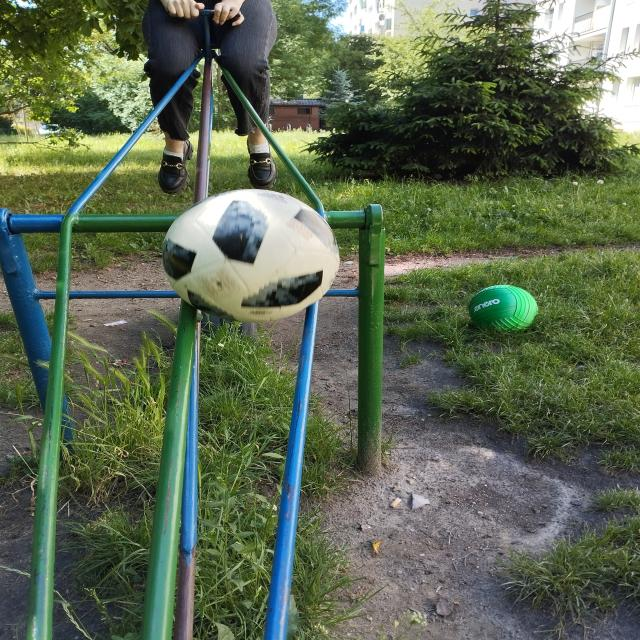nozna: (162, 189, 340, 323)
zielona: (469, 285, 539, 333)
